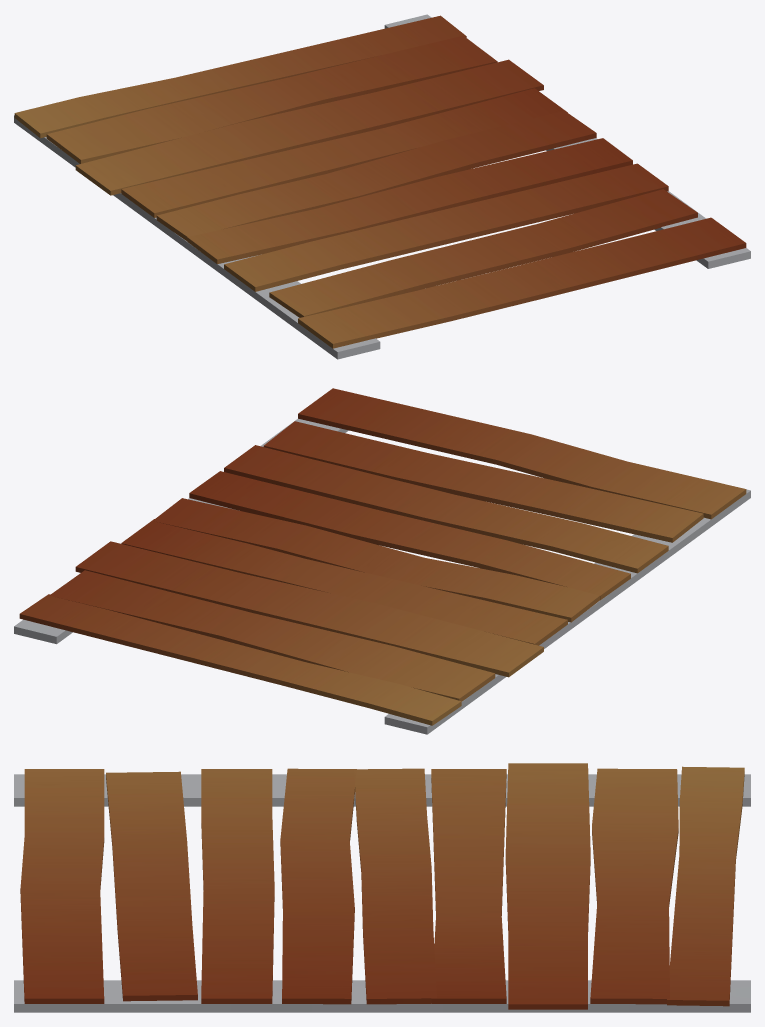
File: puente_suelo.fbx
3 renders of one model, top to bottom at view 1: azimuth 30°, elevation 25°; view 2: azimuth 150°, elevation 25°; view 3: azimuth 270°, elevation 25°, orthographic. The views are drawn at different scales.
Visible parts, largest first — view 1: Puente_suelo; view 2: Puente_suelo; view 3: Puente_suelo.
Boxes of the visible parts, box(x1,y1,x2,y2) form: Puente_suelo: box(14, 14, 750, 359); Puente_suelo: box(14, 388, 750, 734); Puente_suelo: box(14, 763, 750, 1012).
Bounding box in the file's own units: 2393 × 72.16 × 3095.
